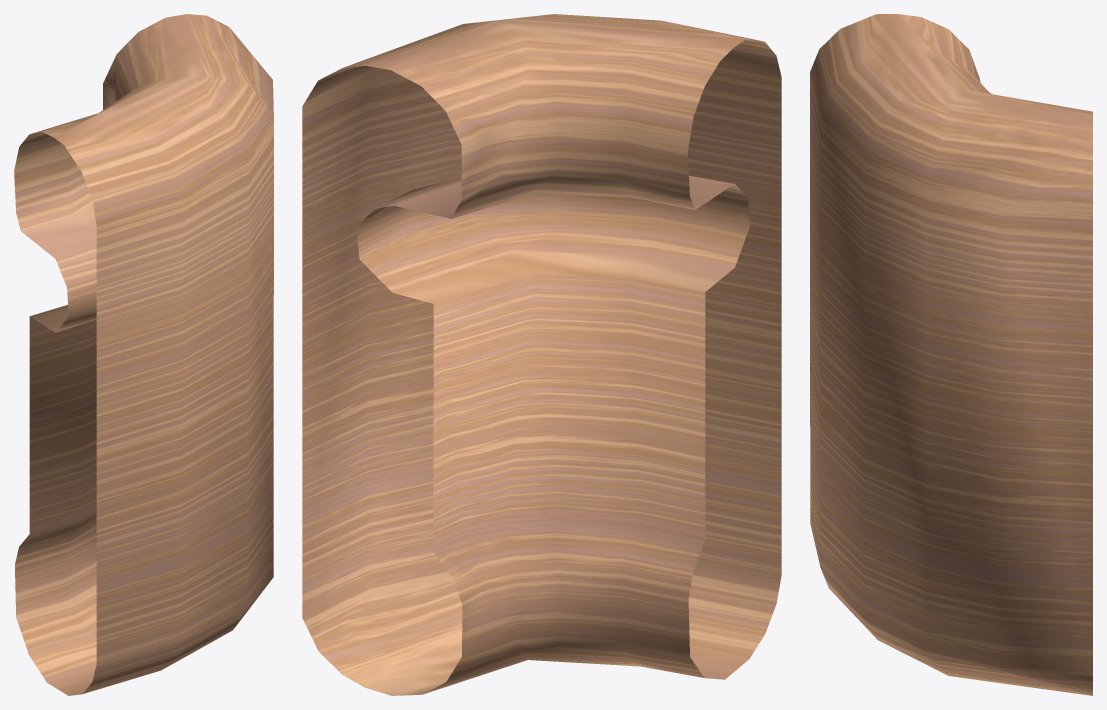
Rendered from hospital_handrail_end1.dae.
The picture shows the model from 3 angles, left to right: view 1: azimuth 30°, elevation 25°; view 2: azimuth 150°, elevation 25°; view 3: azimuth 270°, elevation 25°; orthographic projection. The views are drawn at different scales.
Parts seen in each view (by area): view 1: Handle Curve; view 2: Handle Curve; view 3: Handle Curve.
Part boxes in pixels (x1,y1,x2,y2): Handle Curve: [14, 14, 273, 695]; Handle Curve: [302, 14, 781, 695]; Handle Curve: [810, 14, 1092, 695].
Size of the model in its own units: 0.0756 by 0.0635 by 0.14.
